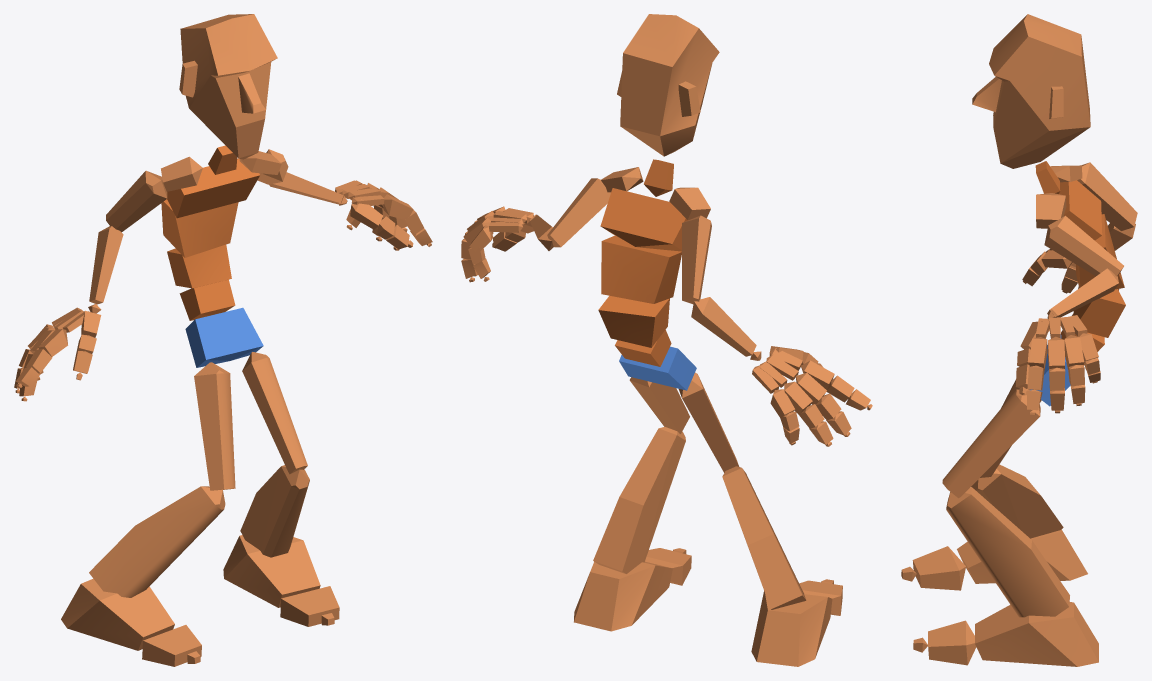
The picture shows the model from 3 angles, left to right: view 1: azimuth 30°, elevation 25°; view 2: azimuth 150°, elevation 25°; view 3: azimuth 270°, elevation 25°; orthographic projection. The views are drawn at different scales.
Parts seen in each view (by area): view 1: BOPED_Head, BOPED_R_leg, BOPED_R_foot, BOPED_R_foot01, BOPED_L_leg, BOPED_R_legup, BOPED_L_legup, Bone01, Bone04, Bone05, Bone03, BOPED_R_arm_upper (+8 smaller); view 2: BOPED_Head, BOPED_L_leg, BOPED_R_foot01, BOPED_R_leg, BOPED_R_foot, Bone04, Bone05, Bone03, BOPED_R_legup, BOPED_R_arm_upper, BOPED_L_arm_upper, Bone01 (+8 smaller); view 3: BOPED_Head, BOPED_L_leg, BOPED_R_foot01, BOPED_L_legup, BOPED_R_leg, BOPED_L_arm_upper, BOPED_R_foot, BOPED_R_foot_toe01, BOPED_R_arm_upper, BOPED_R_foot_toe04, Bone05, Bone03 (+14 smaller).
Part boxes in pixels (box(x1,y1,x2,y2)): BOPED_Head: box(179, 14, 277, 159); BOPED_R_leg: box(89, 486, 225, 597); BOPED_R_foot: box(61, 578, 174, 650); BOPED_R_foot01: box(223, 535, 320, 607); BOPED_L_leg: box(240, 465, 309, 557); BOPED_R_legup: box(194, 362, 235, 490); BOPED_L_legup: box(242, 352, 307, 474); Bone01: box(185, 307, 263, 367); Bone04: box(161, 199, 238, 257); Bone05: box(167, 158, 260, 218); Bone03: box(167, 244, 231, 288); BOPED_R_arm_upper: box(106, 170, 167, 232); BOPED_Head: box(617, 14, 719, 156); BOPED_L_leg: box(593, 427, 685, 573); BOPED_R_foot01: box(574, 561, 672, 631); BOPED_R_leg: box(722, 466, 806, 609); BOPED_R_foot: box(751, 591, 832, 666); Bone04: box(601, 235, 681, 303); Bone05: box(600, 188, 688, 251); Bone03: box(598, 295, 669, 347); BOPED_R_legup: box(678, 372, 739, 472); BOPED_R_arm_upper: box(682, 215, 711, 304); BOPED_L_arm_upper: box(547, 178, 610, 247); Bone01: box(619, 346, 696, 390); BOPED_Head: box(972, 14, 1090, 168); BOPED_L_leg: box(946, 487, 1069, 617); BOPED_R_foot01: box(975, 602, 1098, 666); BOPED_L_legup: box(942, 389, 1040, 498); BOPED_R_leg: box(971, 464, 1063, 538); BOPED_L_arm_upper: box(1044, 215, 1123, 276); BOPED_R_foot: box(957, 529, 1087, 583); BOPED_R_foot_toe01: box(912, 546, 965, 590); BOPED_R_arm_upper: box(1077, 162, 1137, 230); BOPED_R_foot_toe04: box(928, 620, 976, 665); Bone05: box(1059, 180, 1102, 240); Bone03: box(1073, 286, 1125, 337).
Size of the model in its own units: 130 by 178 by 62.78.
